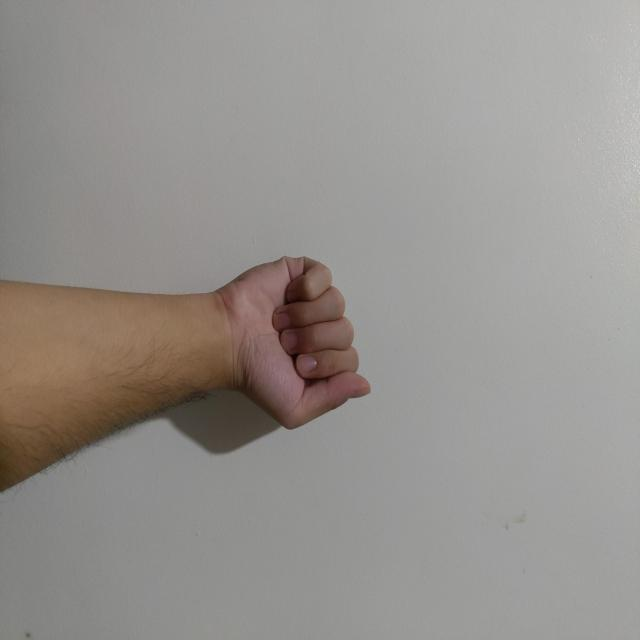A: (255, 268, 432, 422)
